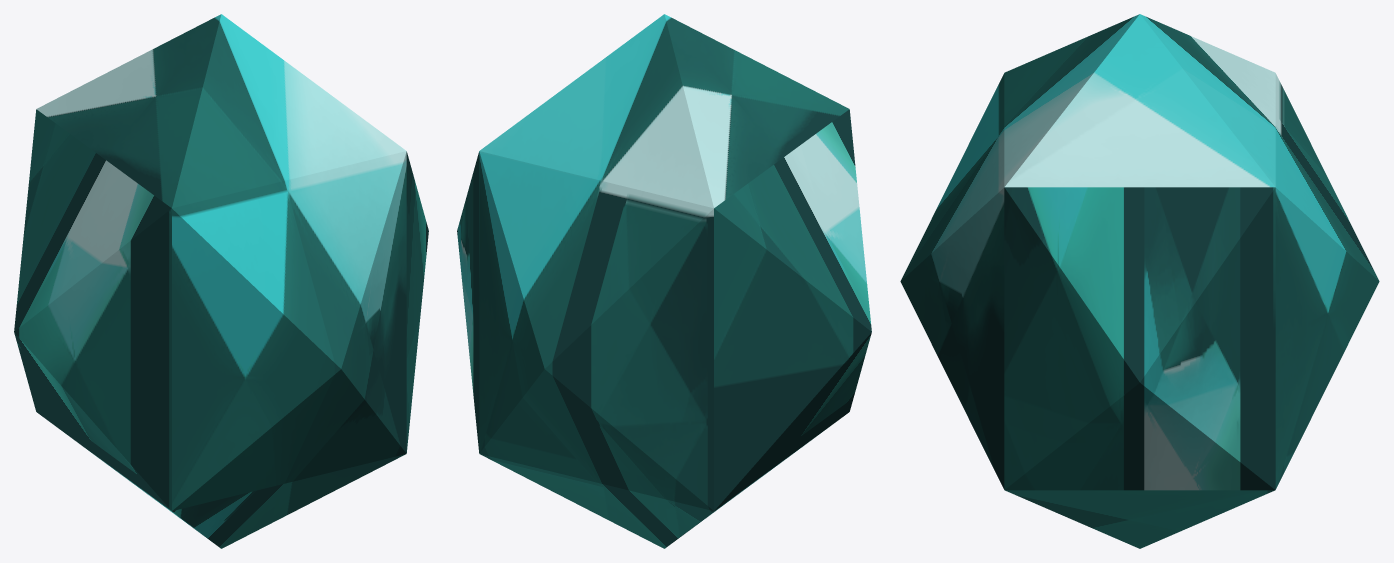
File: Iron.fbx
3 views of the same model, side by side, from view 1: azimuth 30°, elevation 25°; view 2: azimuth 150°, elevation 25°; view 3: azimuth 270°, elevation 25° (orthographic).
Parts seen in each view (by area): view 1: Iron; view 2: Iron; view 3: Iron.
Boxes of the visible parts, x1=… form: Iron: x1=14, y1=14, x2=428, y2=548; Iron: x1=457, y1=14, x2=871, y2=548; Iron: x1=900, y1=14, x2=1379, y2=548.
Bounding box in the file's own units: 52.99 × 65.29 × 52.99.
